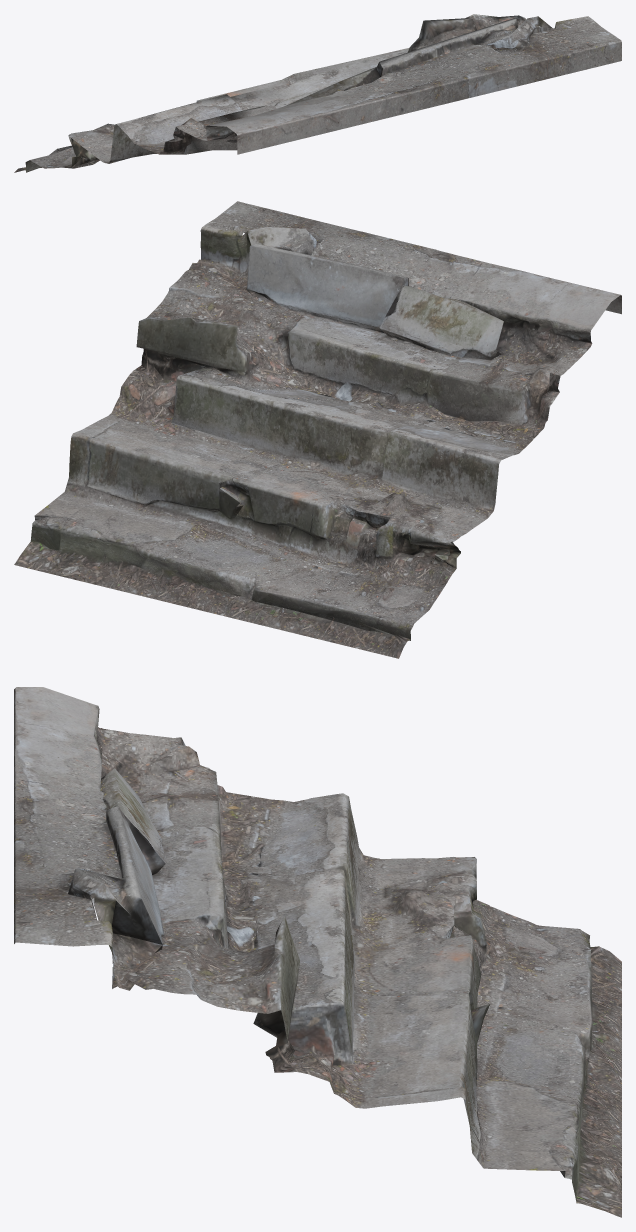
The model's file is SM_Stairs_01_07.fbx.
3 renders of one model, top to bottom at view 1: azimuth 30°, elevation 25°; view 2: azimuth 150°, elevation 25°; view 3: azimuth 270°, elevation 25°, orthographic. The views are drawn at different scales.
Visible parts, largest first — view 1: sm_Stairs_01_07_LOD0; view 2: sm_Stairs_01_07_LOD0; view 3: sm_Stairs_01_07_LOD0.
Boxes of the visible parts, x1,y1,x2,y2 form: sm_Stairs_01_07_LOD0: [14, 14, 621, 172]; sm_Stairs_01_07_LOD0: [14, 201, 621, 658]; sm_Stairs_01_07_LOD0: [14, 687, 621, 1217].
Size of the model in its own units: 201 by 200 by 106.
